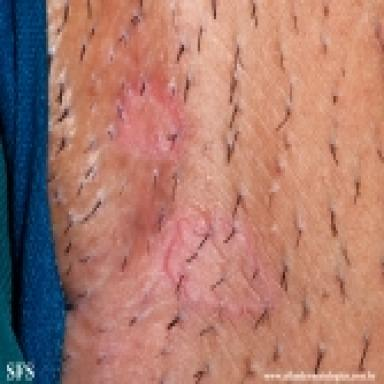Porokeratosis: (165, 208, 273, 317), (122, 71, 183, 156)
